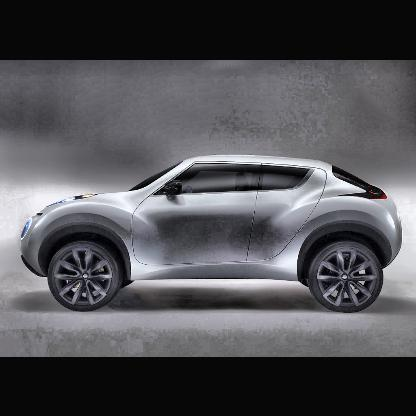Nissan Juke Hatchback 2012: (19, 151, 408, 315)
